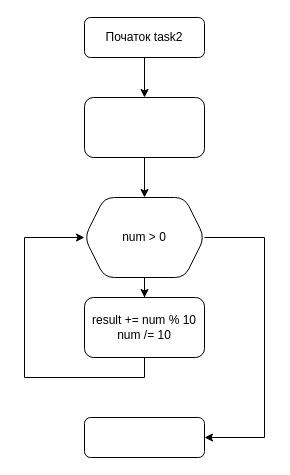
Some shapes in this 290 by 475 pixel diagram are drawn without their labels. Here are the shapes that lost their labels. From the top down, the box of each, then its label:
(84, 96, 204, 158): result = 0
(84, 416, 204, 458): Кінець task2
